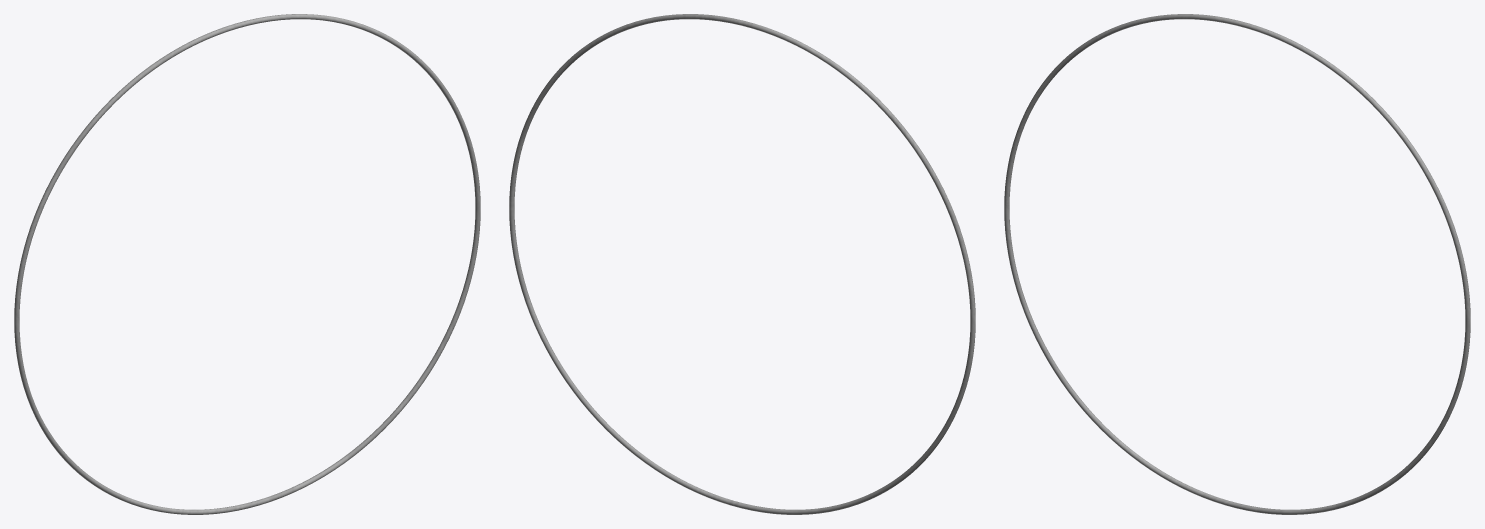
File: LRing_Silver.glb
3 views of the same model, side by side, from view 1: azimuth 30°, elevation 25°; view 2: azimuth 150°, elevation 25°; view 3: azimuth 330°, elevation 25° (orthographic).
Parts seen in each view (by area): view 1: RingS.obj; view 2: RingS.obj; view 3: RingS.obj.
Part boxes in pixels (x1=…): RingS.obj: x1=14, y1=14, x2=480, y2=514; RingS.obj: x1=509, y1=14, x2=975, y2=514; RingS.obj: x1=1004, y1=14, x2=1470, y2=514.
Bounding box in the file's own units: 7.95 × 7.95 × 0.0761.
1 material, 1 textured.
